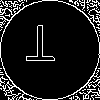T: (25, 25, 56, 70)
